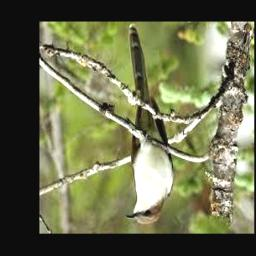Cuckoo: (128, 25, 175, 225)
